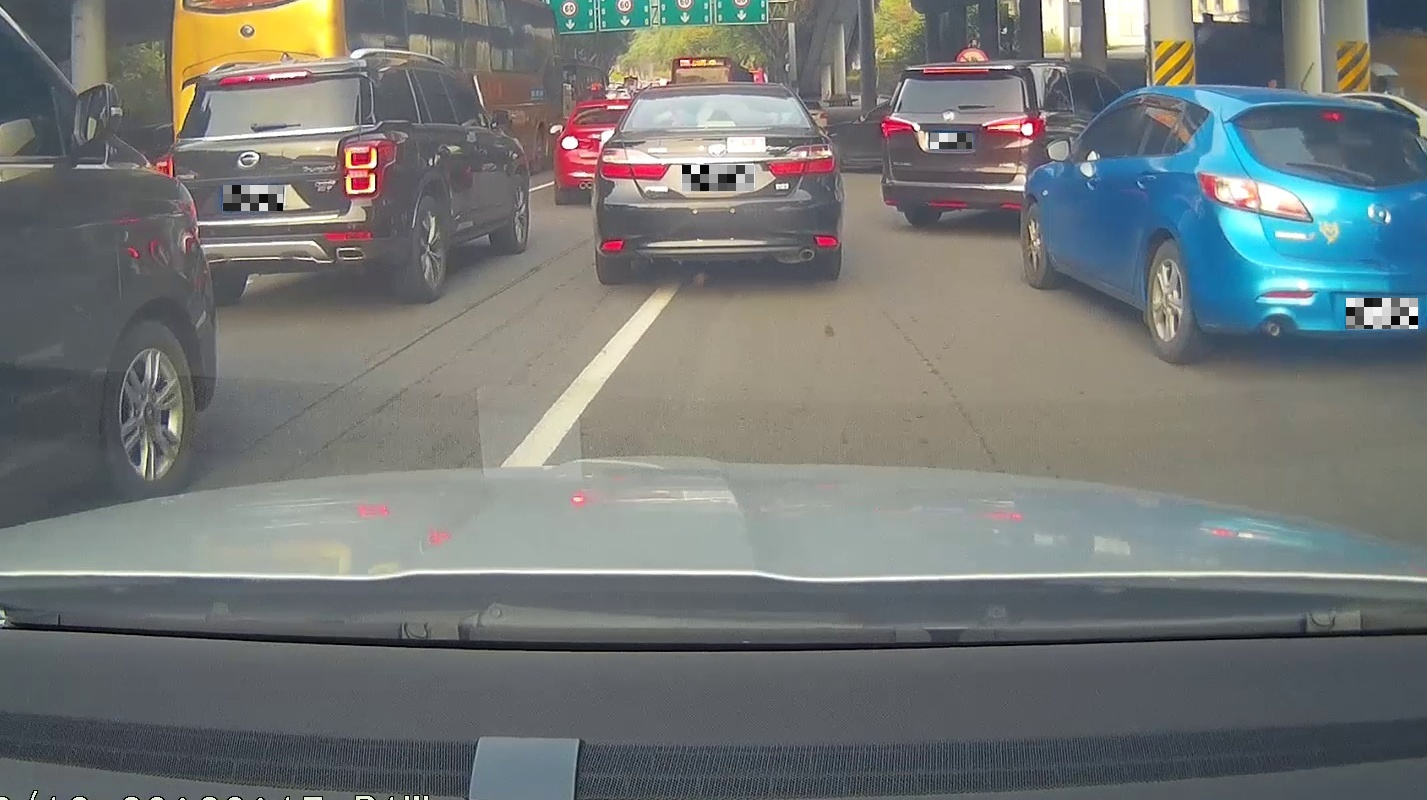L_light: (599, 147, 669, 179), (882, 116, 919, 137), (155, 153, 173, 176)
R_light: (342, 140, 395, 197), (769, 144, 834, 175), (983, 117, 1037, 137)
T_light: (220, 70, 309, 85), (923, 68, 988, 73), (702, 87, 732, 92)
day-brake: (155, 59, 399, 304)
day-no: (592, 82, 844, 281)
day-right: (881, 63, 1039, 227)
plate_1: (223, 185, 283, 211)
plate_2: (682, 165, 754, 191)
plate_3: (930, 133, 972, 149)
plate_4: (1346, 298, 1418, 329)
